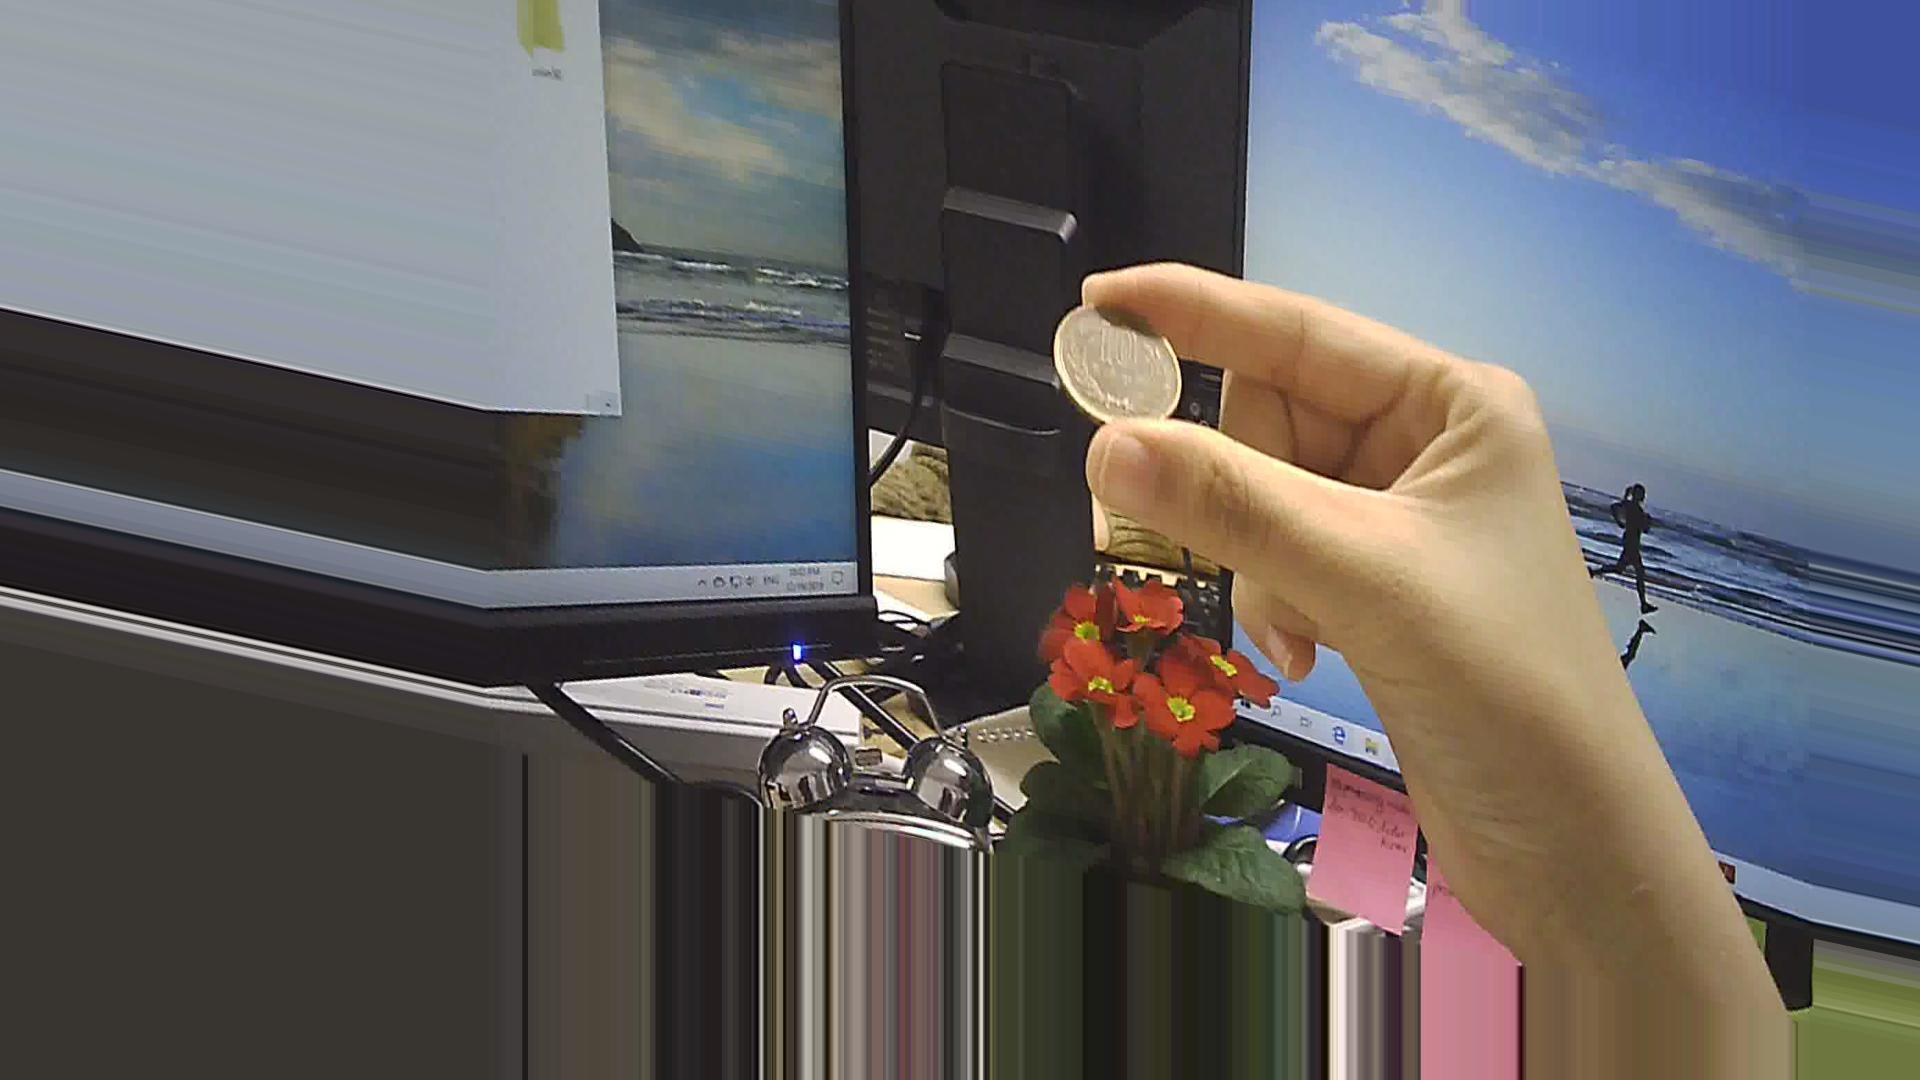10 Yen: (1050, 295, 1191, 440)
